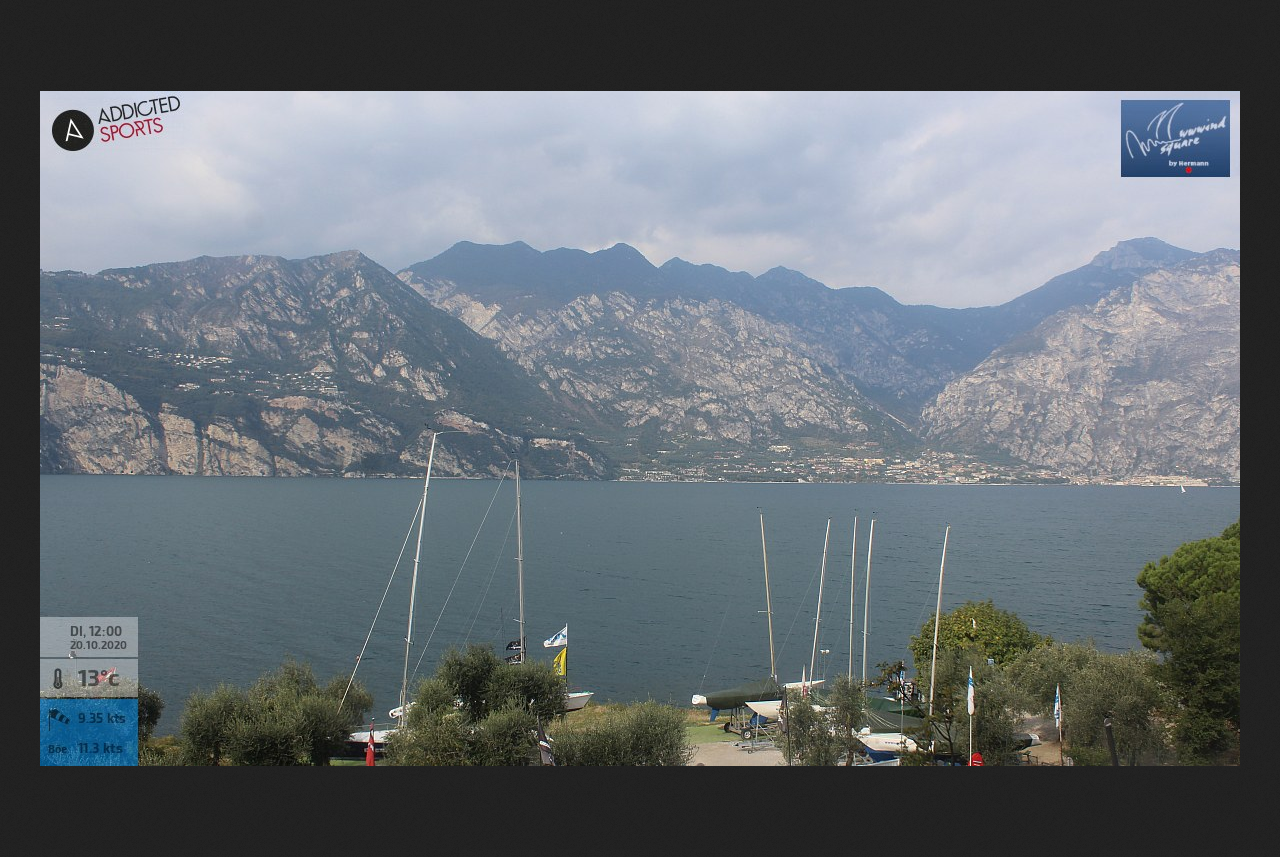maybe: (542, 620, 571, 648), (546, 644, 569, 678), (500, 647, 527, 667), (504, 630, 529, 649)
no: (1049, 679, 1071, 741), (961, 663, 980, 719)
